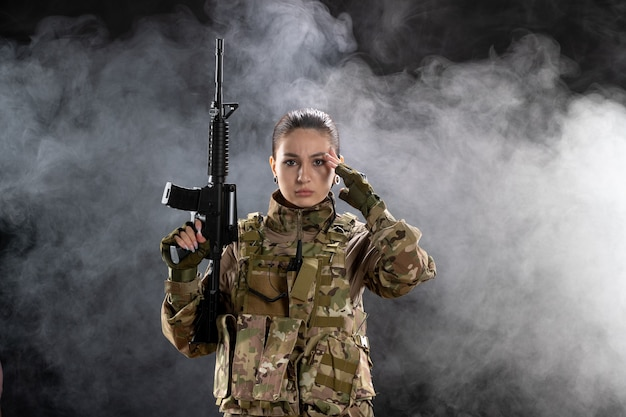gun: (158, 37, 240, 296)
